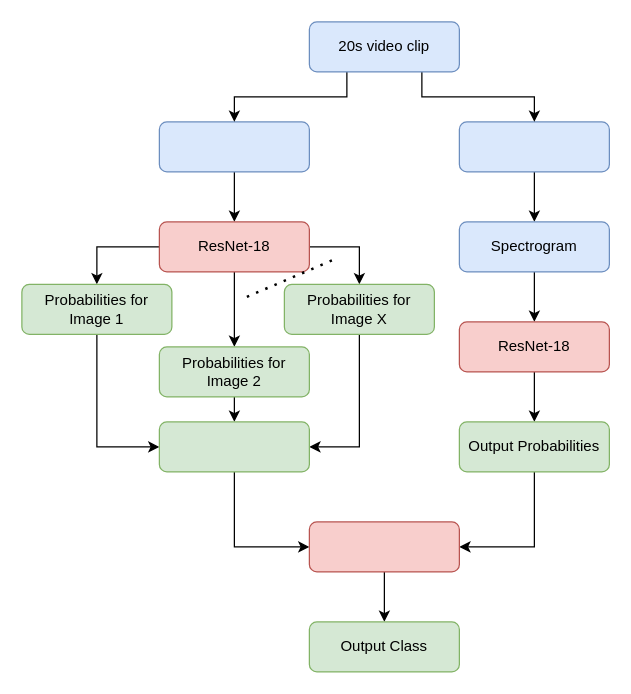
This 631x694 diagram has some shape labels left out. The centre of each missing label's shape, as x and y in pixels:
"Audio (.mp3 file)" goes at point 533,146.
"Averaged Probabilities" goes at point 233,446.
"Logistic Regression Layer" goes at point 383,546.
"X out of 600 frames as 240p images" goes at point 233,146.
